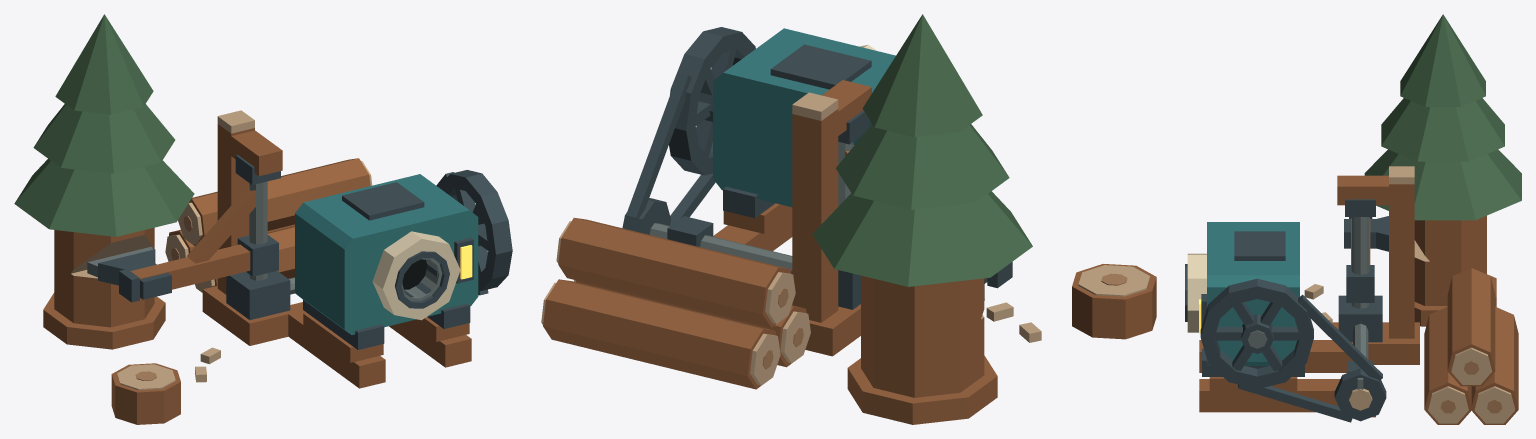
Rendered from logger_camp.glb.
3 views of the same model, side by side, from view 1: azimuth 30°, elevation 25°; view 2: azimuth 150°, elevation 25°; view 3: azimuth 270°, elevation 25° (orthographic). The views are drawn at different scales.
Visible parts, largest first — view 1: Logger camp Timber, Logger camp Pine, SharedGenerator_teal, SharedGenerator_iron, AxeHelve Timber, FlywheelPivot_iron, AxeHelve Iron, Logger camp Cut wood, SharedGenerator_cream, Logger camp Iron, AxeHelve Steel, SocketRotor_steel (+1 smaller); view 2: Logger camp Timber, Logger camp Pine, SharedGenerator_teal, Logger camp Cut wood, FlywheelPivot_iron, Logger camp Iron, SharedGenerator_iron, Logger camp Steel, AxePulley Iron, Logger camp Planks; view 3: Logger camp Timber, Logger camp Pine, FlywheelPivot_iron, SharedGenerator_teal, Logger camp Iron, Logger camp Cut wood, SharedGenerator_iron, AxeHelve Iron, AxePulley Iron, SharedGenerator_cream, AxeHelve Steel, Logger camp Planks (+2 smaller).
Boxes of the visible parts, <box> form: Logger camp Timber: <box>43,124,471,424</box>; Logger camp Pine: <box>14,14,194,236</box>; SharedGenerator_teal: <box>295,174,478,334</box>; SharedGenerator_iron: <box>303,182,473,349</box>; AxeHelve Timber: <box>130,186,255,289</box>; FlywheelPivot_iron: <box>439,170,512,290</box>; AxeHelve Iron: <box>98,235,278,302</box>; Logger camp Cut wood: <box>117,110,372,390</box>; SharedGenerator_cream: <box>372,231,460,320</box>; Logger camp Iron: <box>226,155,488,319</box>; AxeHelve Steel: <box>87,181,267,280</box>; SocketRotor_steel: <box>401,258,442,301</box>; Logger camp Timber: <box>543,80,1156,424</box>; Logger camp Pine: <box>812,14,1032,286</box>; SharedGenerator_teal: <box>713,28,895,207</box>; Logger camp Cut wood: <box>541,92,1150,385</box>; FlywheelPivot_iron: <box>669,27,755,175</box>; Logger camp Iron: <box>626,72,869,309</box>; SharedGenerator_iron: <box>723,44,871,218</box>; Logger camp Steel: <box>649,223,792,273</box>; AxePulley Iron: <box>622,198,671,234</box>; Logger camp Planks: <box>762,273,1127,369</box>; Logger camp Timber: <box>1199,175,1518,424</box>; Logger camp Pine: <box>1364,14,1521,220</box>; FlywheelPivot_iron: <box>1200,278,1313,388</box>; SharedGenerator_teal: <box>1207,222,1299,365</box>; Logger camp Iron: <box>1238,199,1382,422</box>; Logger camp Cut wood: <box>1304,166,1514,423</box>; SharedGenerator_iron: <box>1185,231,1304,376</box>; AxeHelve Iron: <box>1344,216,1388,302</box>; AxePulley Iron: <box>1334,368,1386,421</box>; SharedGenerator_cream: <box>1187,253,1206,332</box>; AxeHelve Steel: <box>1351,217,1369,308</box>; Logger camp Planks: <box>1440,361,1502,413</box>.
Size of the model in its own units: 1.56 by 1.24 by 1.3.
